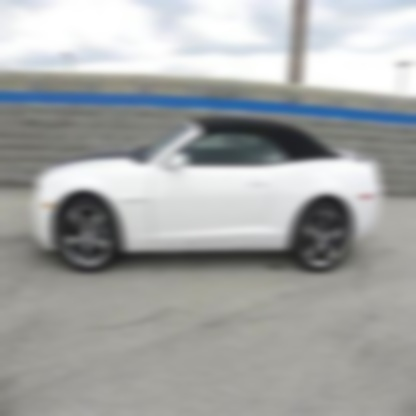Vehicle: (35, 119, 383, 272)
